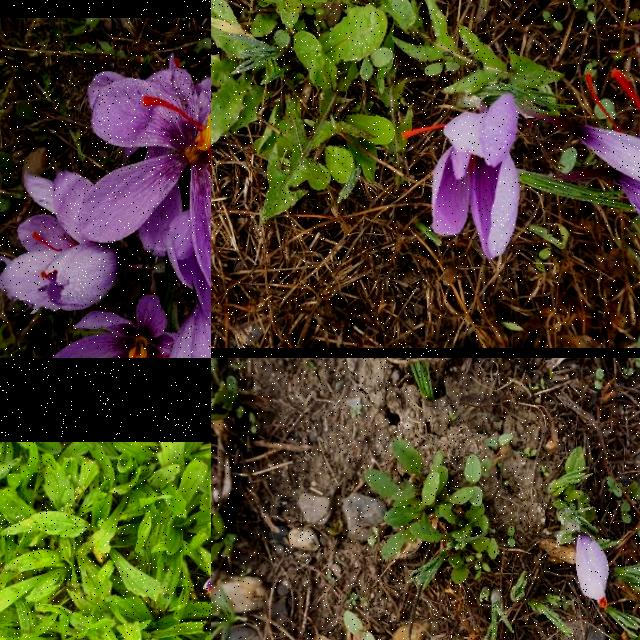flower: (78, 69, 211, 320), (402, 93, 520, 260), (49, 295, 177, 358), (32, 232, 126, 310), (576, 532, 610, 608), (202, 564, 211, 595)
overlap: (0, 53, 211, 358), (547, 69, 640, 227)
